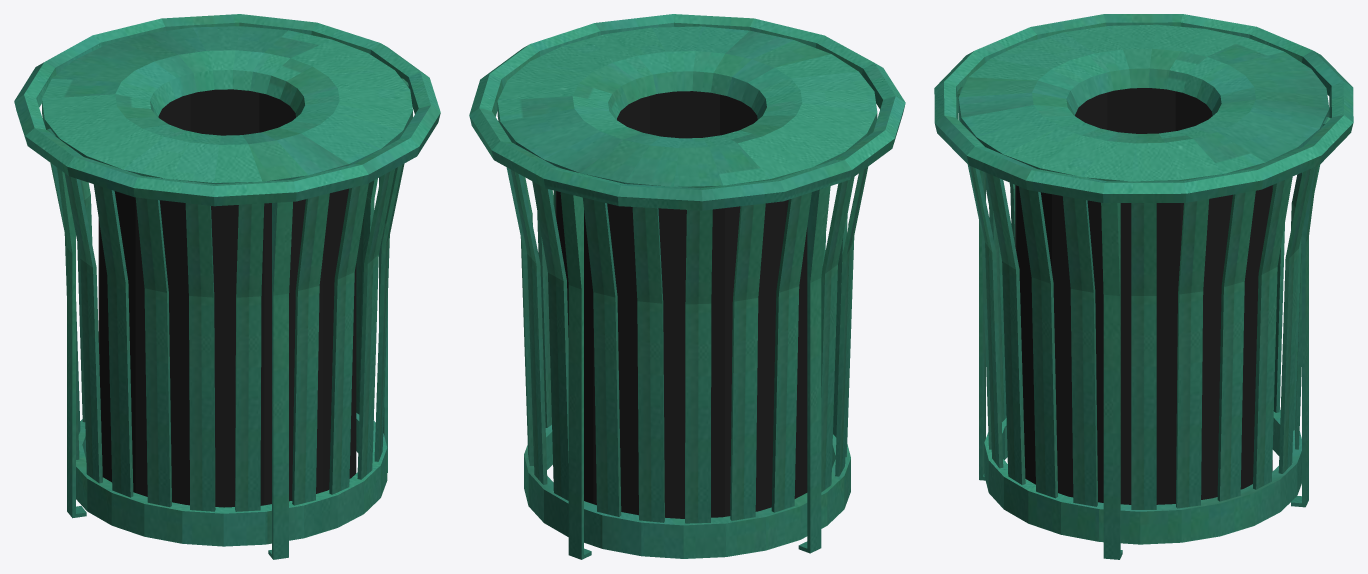
3 views of the same model, side by side, from view 1: azimuth 30°, elevation 25°; view 2: azimuth 150°, elevation 25°; view 3: azimuth 270°, elevation 25° (orthographic). The views are drawn at different scales.
Parts seen in each view (by area): view 1: mesh13.001_mesh13-geometry, mesh1.001_mesh1-geometry, mesh7.001_mesh7-geometry, mesh8.001_mesh8-geometry, mesh5.011_mesh5-geometry, mesh5.012_mesh5-geometry, mesh5.015_mesh5-geometry, mesh5.016_mesh5-geometry, mesh5.013_mesh5-geometry, mesh3.002_mesh3-geometry, mesh5.019_mesh5-geometry, mesh5.014_mesh5-geometry (+7 smaller); view 2: mesh13.001_mesh13-geometry, mesh1.001_mesh1-geometry, mesh7.001_mesh7-geometry, mesh8.001_mesh8-geometry, mesh5.007_mesh5-geometry, mesh5.009_mesh5-geometry, mesh5.006_mesh5-geometry, mesh5.010_mesh5-geometry, mesh5.008_mesh5-geometry, mesh3.001_mesh3-geometry, mesh3.004_mesh3-geometry, mesh5.005_mesh5-geometry (+6 smaller); view 3: mesh13.001_mesh13-geometry, mesh1.001_mesh1-geometry, mesh7.001_mesh7-geometry, mesh8.001_mesh8-geometry, mesh5.001_mesh5-geometry, mesh5.002_mesh5-geometry, mesh5.020_mesh5-geometry, mesh5.003_mesh5-geometry, mesh5.017_mesh5-geometry, mesh3.003_mesh3-geometry, mesh5.004_mesh5-geometry, mesh5.018_mesh5-geometry (+9 smaller).
Boxes of the visible parts, bbox=[...] form: mesh13.001_mesh13-geometry: bbox=[42, 26, 412, 184]; mesh1.001_mesh1-geometry: bbox=[98, 89, 356, 507]; mesh7.001_mesh7-geometry: bbox=[14, 14, 440, 206]; mesh8.001_mesh8-geometry: bbox=[76, 413, 387, 546]; mesh5.011_mesh5-geometry: bbox=[235, 203, 264, 511]; mesh5.012_mesh5-geometry: bbox=[185, 203, 215, 511]; mesh5.015_mesh5-geometry: bbox=[135, 197, 171, 507]; mesh5.016_mesh5-geometry: bbox=[292, 193, 329, 505]; mesh5.013_mesh5-geometry: bbox=[93, 184, 133, 497]; mesh3.002_mesh3-geometry: bbox=[268, 201, 292, 559]; mesh5.019_mesh5-geometry: bbox=[329, 183, 368, 494]; mesh5.014_mesh5-geometry: bbox=[64, 173, 102, 483]; mesh13.001_mesh13-geometry: bbox=[497, 26, 877, 188]; mesh1.001_mesh1-geometry: bbox=[555, 91, 807, 518]; mesh7.001_mesh7-geometry: bbox=[469, 14, 905, 210]; mesh8.001_mesh8-geometry: bbox=[524, 425, 850, 558]; mesh5.007_mesh5-geometry: bbox=[632, 207, 664, 522]; mesh5.009_mesh5-geometry: bbox=[685, 209, 712, 523]; mesh5.006_mesh5-geometry: bbox=[730, 203, 765, 520]; mesh5.010_mesh5-geometry: bbox=[582, 197, 621, 516]; mesh5.008_mesh5-geometry: bbox=[771, 192, 811, 512]; mesh3.001_mesh3-geometry: bbox=[557, 167, 591, 559]; mesh3.004_mesh3-geometry: bbox=[798, 159, 835, 553]; mesh5.005_mesh5-geometry: bbox=[532, 181, 568, 500]; mesh13.001_mesh13-geometry: bbox=[958, 24, 1329, 181]; mesh1.001_mesh1-geometry: bbox=[1015, 88, 1272, 504]; mesh7.001_mesh7-geometry: bbox=[934, 14, 1353, 202]; mesh8.001_mesh8-geometry: bbox=[984, 410, 1301, 544]; mesh5.001_mesh5-geometry: bbox=[1131, 203, 1156, 509]; mesh5.002_mesh5-geometry: bbox=[1176, 199, 1209, 508]; mesh5.020_mesh5-geometry: bbox=[1062, 196, 1097, 506]; mesh5.003_mesh5-geometry: bbox=[1217, 190, 1255, 501]; mesh5.017_mesh5-geometry: bbox=[1019, 186, 1057, 498]; mesh3.003_mesh3-geometry: bbox=[1101, 202, 1122, 559]; mesh5.004_mesh5-geometry: bbox=[1253, 176, 1292, 489]; mesh5.018_mesh5-geometry: bbox=[986, 173, 1025, 484].
Bounding box in the file's own units: 0.5701 × 0.5917 × 0.5701.
